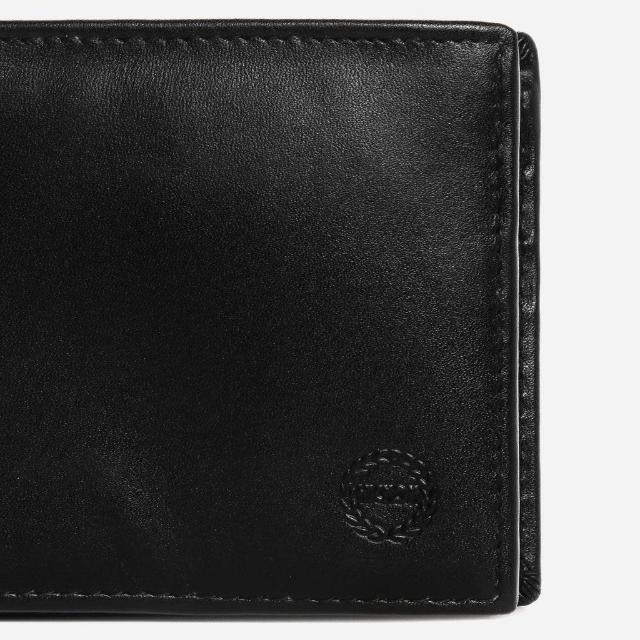wallet: (0, 17, 538, 621)
